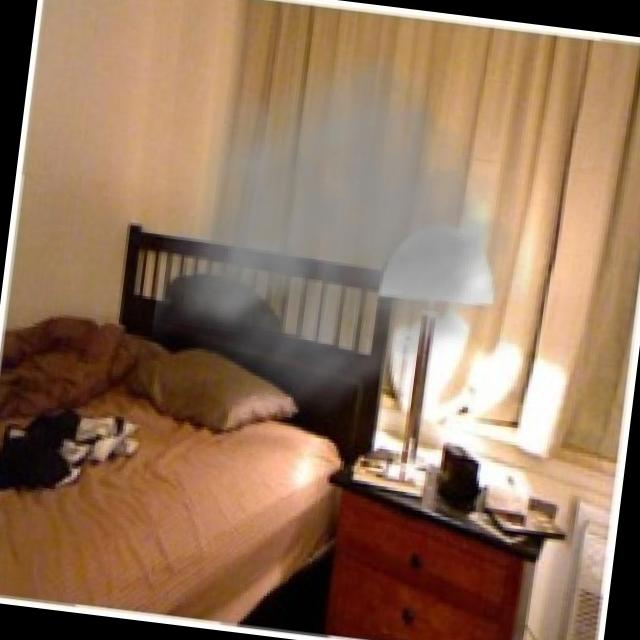Smoke: (142, 16, 582, 456)
